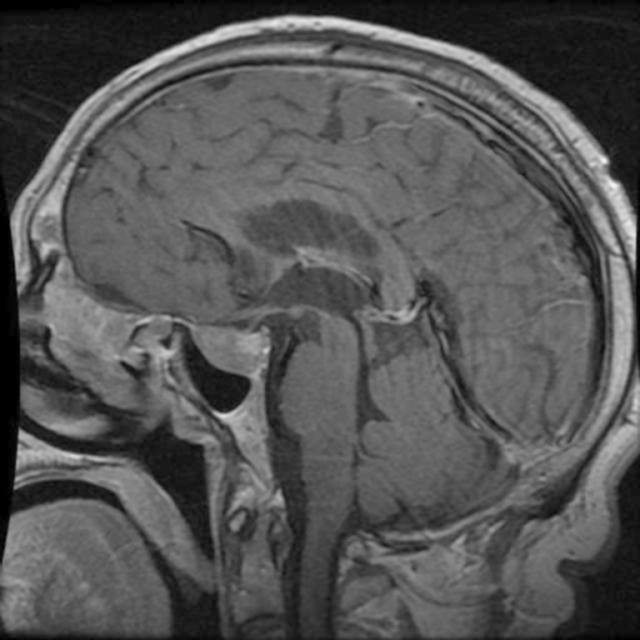no tumor: (182, 304, 288, 385)
